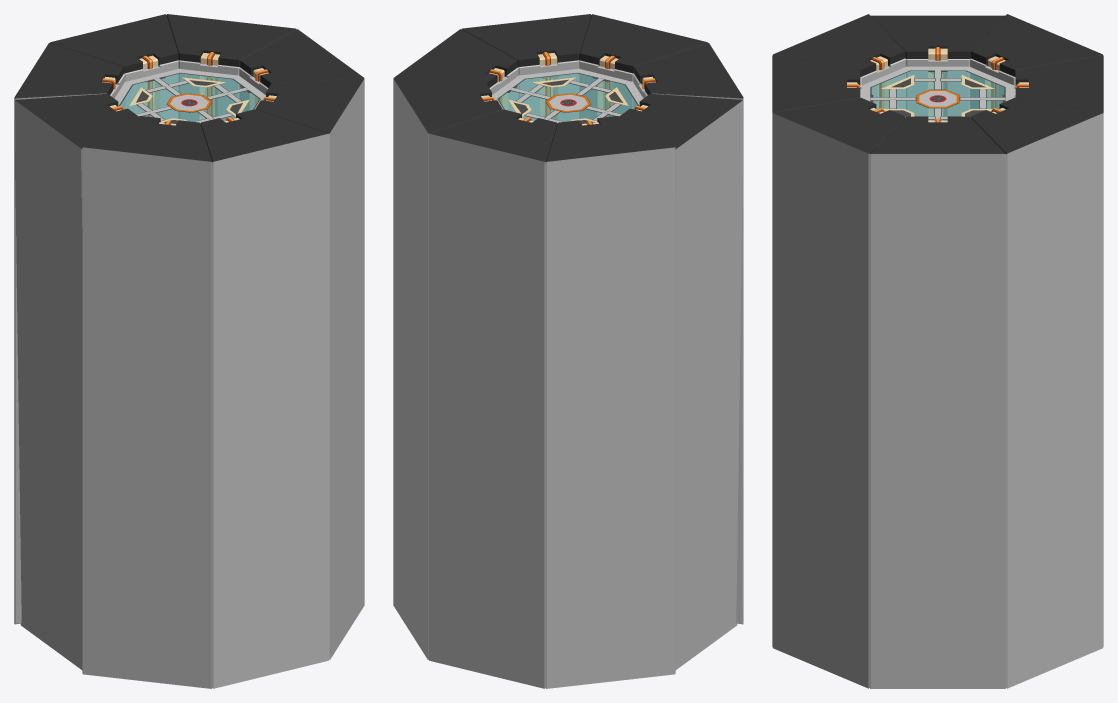
File: BobbleArena.fbx
The picture shows the model from 3 angles, left to right: view 1: azimuth 30°, elevation 25°; view 2: azimuth 150°, elevation 25°; view 3: azimuth 270°, elevation 25°; orthographic projection.
Visible parts, largest first — view 1: Outer Wall.008, Outer Wall.005, Outer Wall.007, Outer Wall.001, Outer Wall.006, Outer Wall.003, Outer Wall.004, Outer Wall.002, Glass Floor, Outer Octagon, Inner Octagon, Floor Piece (+1 smaller); view 2: Outer Wall.006, Outer Wall.004, Outer Wall.007, Outer Wall.003, Outer Wall.008, Outer Wall.001, Outer Wall.005, Outer Wall.002, Glass Floor, Outer Octagon, Inner Octagon, Floor Piece.003 (+1 smaller); view 3: Outer Wall.002, Outer Wall.003, Outer Wall.001, Outer Wall.007, Outer Wall.008, Outer Wall.006, Outer Wall.004, Outer Wall.005, Glass Floor, Outer Octagon, Inner Octagon, Floor Piece.001 (+1 smaller).
Part boxes in pixels (x1,y1,x2,y2): Outer Wall.008: [82, 116, 212, 688]; Outer Wall.005: [200, 109, 328, 688]; Outer Wall.007: [14, 93, 138, 669]; Outer Wall.001: [255, 78, 364, 659]; Outer Wall.006: [14, 43, 124, 624]; Outer Wall.003: [166, 14, 296, 121]; Outer Wall.004: [50, 14, 178, 119]; Outer Wall.002: [239, 29, 364, 112]; Glass Floor: [120, 73, 259, 121]; Outer Octagon: [114, 68, 265, 109]; Inner Octagon: [166, 93, 212, 112]; Floor Piece: [145, 76, 225, 95]; Outer Wall.006: [545, 116, 675, 688]; Outer Wall.004: [429, 109, 557, 688]; Outer Wall.007: [619, 93, 743, 669]; Outer Wall.003: [393, 78, 502, 659]; Outer Wall.008: [633, 43, 743, 624]; Outer Wall.001: [461, 14, 591, 121]; Outer Wall.005: [579, 14, 707, 119]; Outer Wall.002: [393, 29, 518, 112]; Glass Floor: [498, 73, 637, 121]; Outer Octagon: [492, 68, 643, 109]; Inner Octagon: [545, 93, 591, 112]; Floor Piece.003: [506, 77, 575, 102]; Outer Wall.002: [869, 116, 1006, 688]; Outer Wall.003: [970, 97, 1102, 688]; Outer Wall.001: [773, 97, 905, 688]; Outer Wall.007: [871, 15, 1004, 120]; Outer Wall.008: [773, 14, 905, 111]; Outer Wall.006: [970, 14, 1102, 111]; Outer Wall.004: [1014, 55, 1103, 647]; Outer Wall.005: [772, 55, 861, 647]; Glass Floor: [871, 71, 1004, 120]; Outer Octagon: [861, 66, 1014, 101]; Inner Octagon: [916, 89, 959, 108]; Floor Piece.001: [914, 70, 994, 89].
Size of the model in its own units: 25606 by 45719 by 25591.
